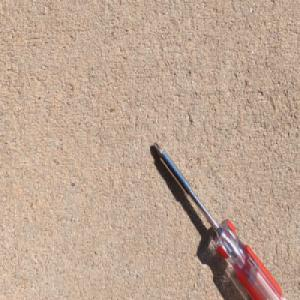Screwdriver: (151, 141, 285, 300)
